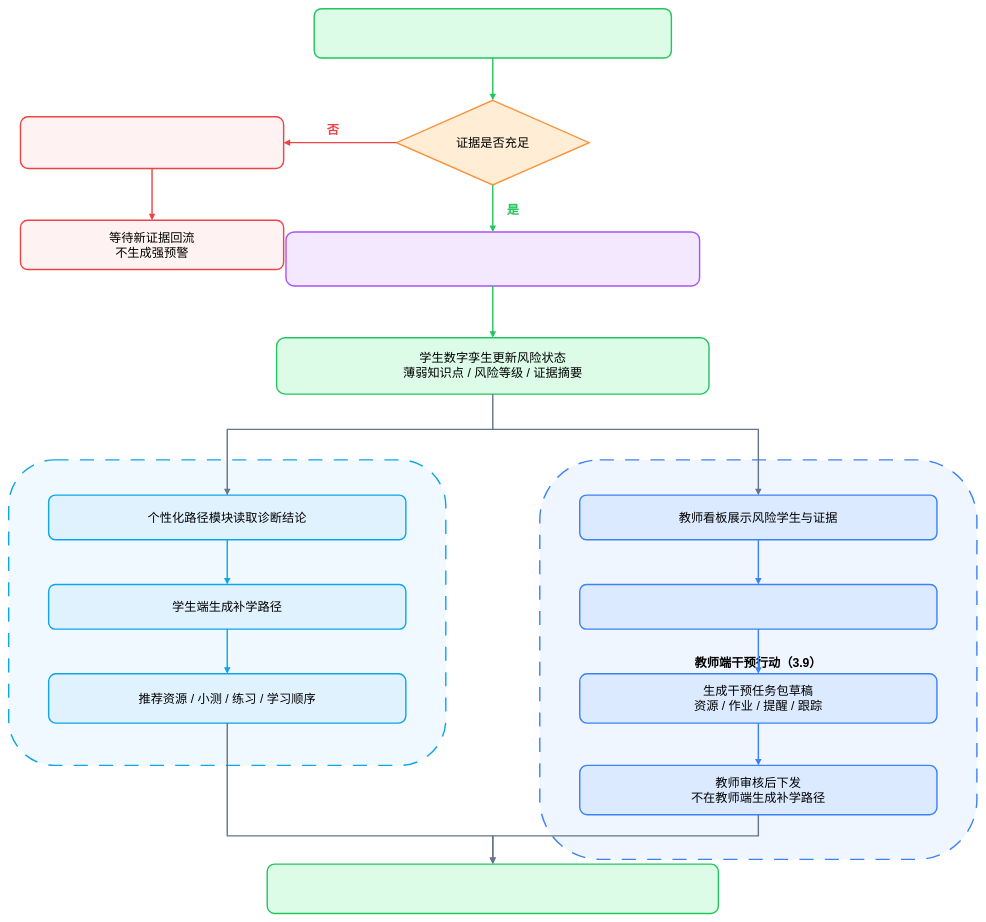
The diagram is 986 pixels wide and 922 high, and some of its shapes have lost their labels. The shapes that lost their labels are listed below. From the top down, each one's centre as x and y in pixels, then its label:
At (492,33): "系统汇聚学生画像指标 掌握度 / 测验 / 作业 / 行为 / 趋势".
At (152,142): "系统提示补充证据 测验 / 作业 / 学习记录".
At (492,258): "诊断智能体计算薄弱点与风险原因 输出薄弱知识点 / 原因说明 / 证据等级".
At (758,607): "教师选择干预方式".
At (492,888): "学习或干预完成结果回流 更新学习证据与学生画像".
